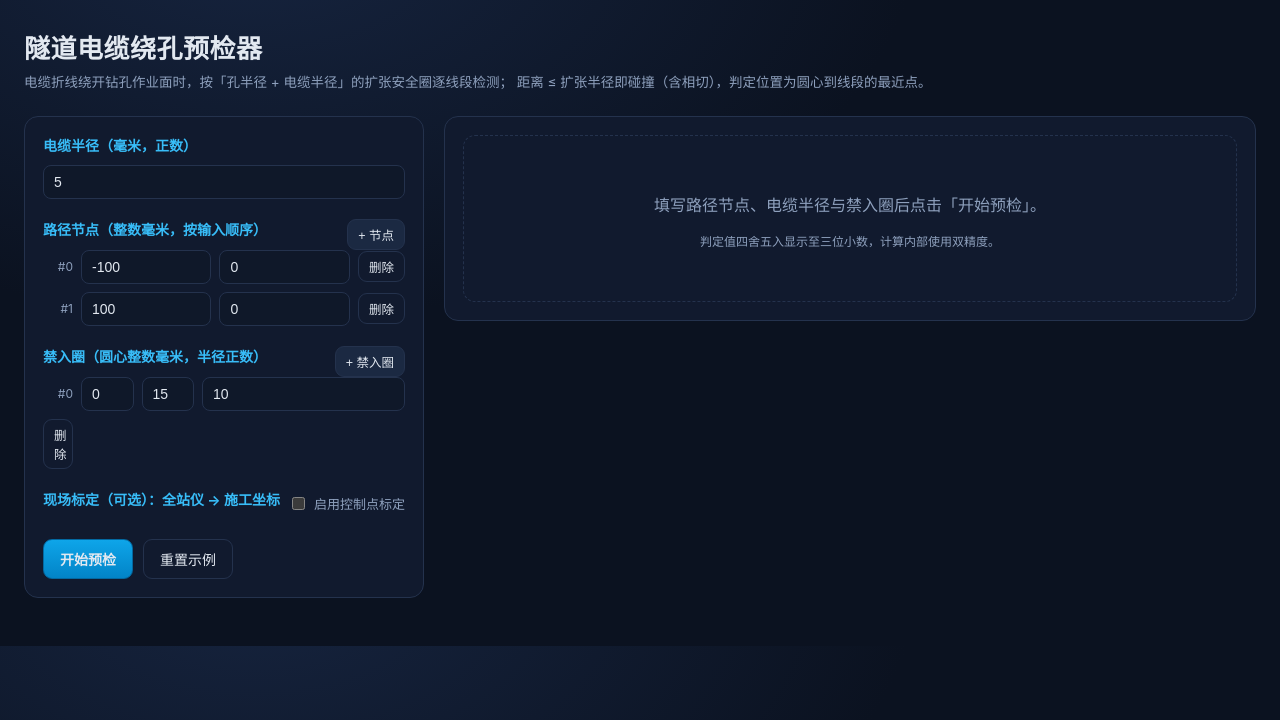
Test: 乱序（stale）响应不能恢复旧区间 › 第一次请求迟迟返回时，用户重置/再次提交后旧响应到达也不恢复旧区间
Click the button with test id "submit". click: {"x": 88, "y": 559}
box: [43,539,133,579]
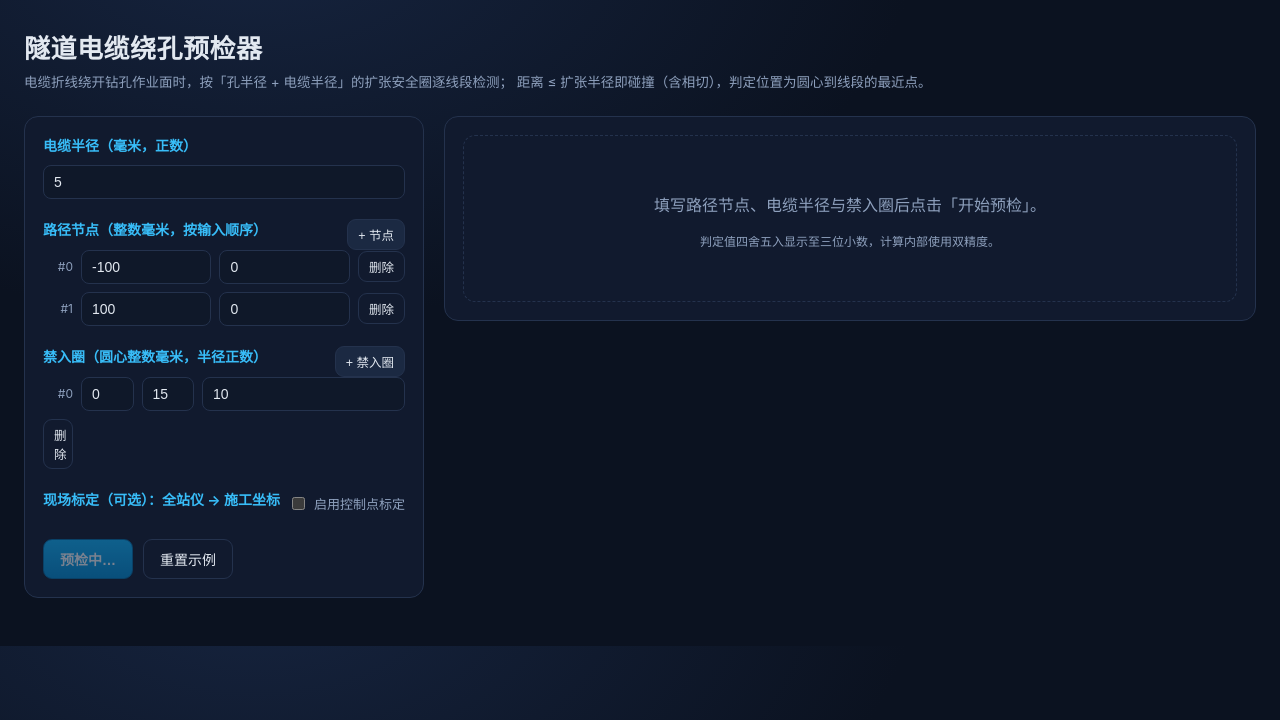
// 在途期间重置：旧结论（未来到达）必须作废
Click the button with test id "reset". click: {"x": 188, "y": 559}
box: [143,539,233,579]
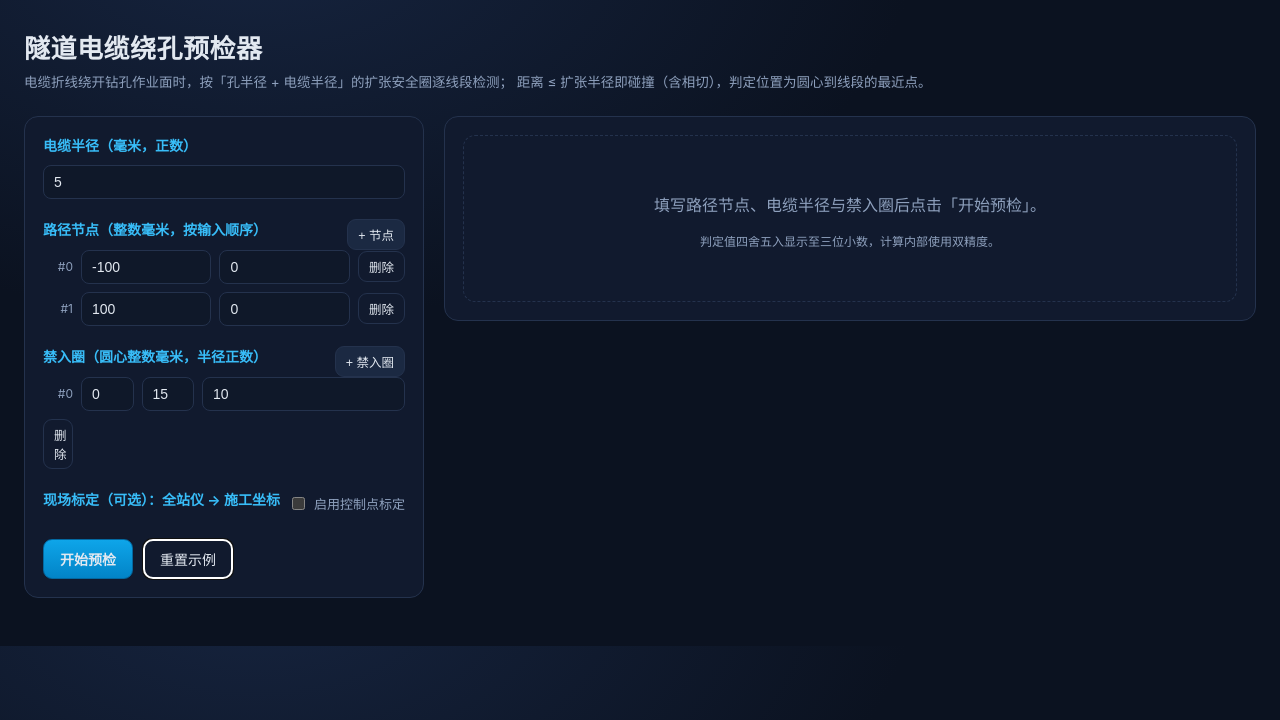
Click the button with test id "submit". click: {"x": 88, "y": 559}
box: [43,539,133,579]
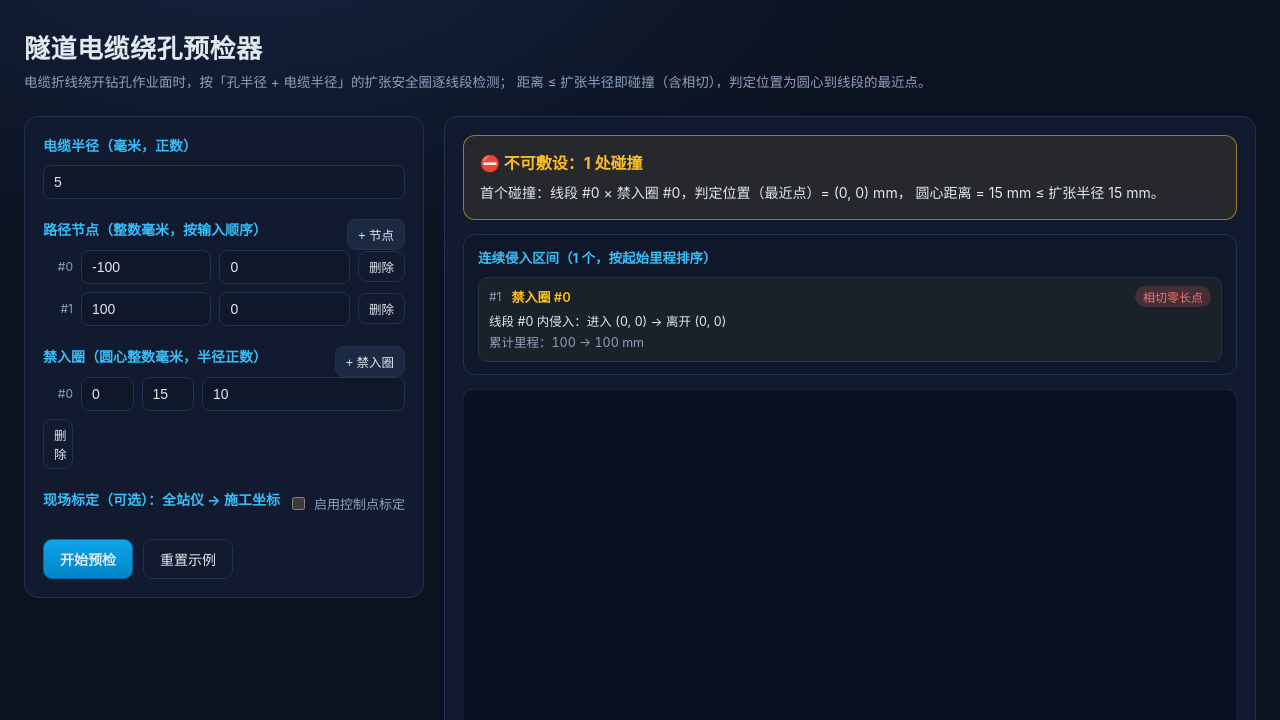
Check: the element with test id "interval-panel" is shown, box [463,234,1237,375]
Check: the list item with test id "^interval-0$" is shown, box [478,277,1222,362]
